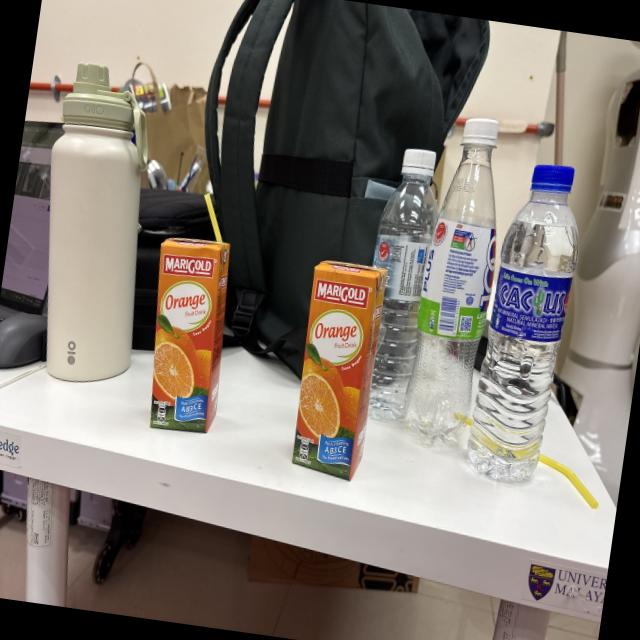drink_carton: (134, 185, 252, 442), (281, 253, 393, 488)
plastic_bottle: (462, 153, 592, 500), (395, 104, 520, 463), (345, 138, 456, 434)
